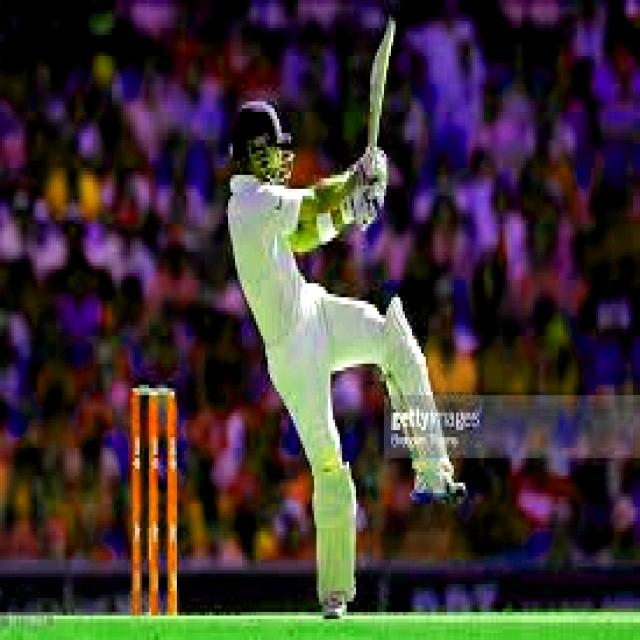toe: (379, 16, 396, 60)
